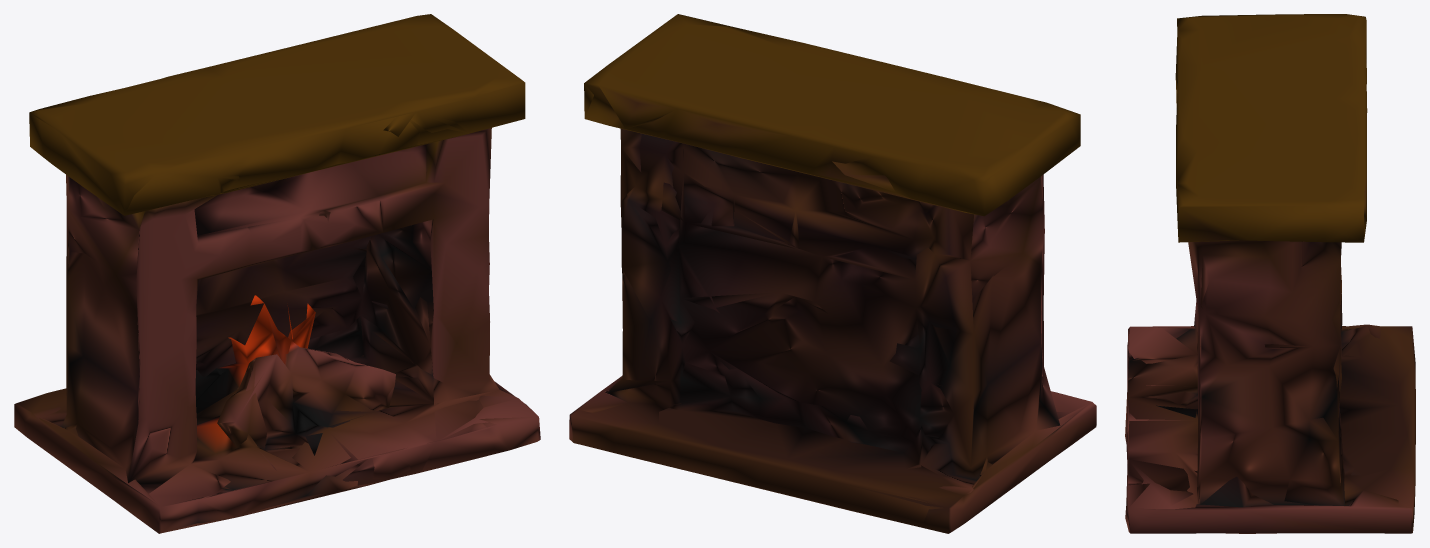
File: gen3d-fireplace-lod0.glb
The picture shows the model from 3 angles, left to right: view 1: azimuth 30°, elevation 25°; view 2: azimuth 150°, elevation 25°; view 3: azimuth 270°, elevation 25°; orthographic projection.
Parts seen in each view (by area): view 1: part_0; view 2: part_0; view 3: part_0.
Part boxes in pixels (bbox=[...]): part_0: bbox=[14, 14, 540, 533]; part_0: bbox=[569, 14, 1096, 533]; part_0: bbox=[1125, 14, 1415, 533].
Bounding box in the file's own units: 1.24 × 1 × 0.7866.
